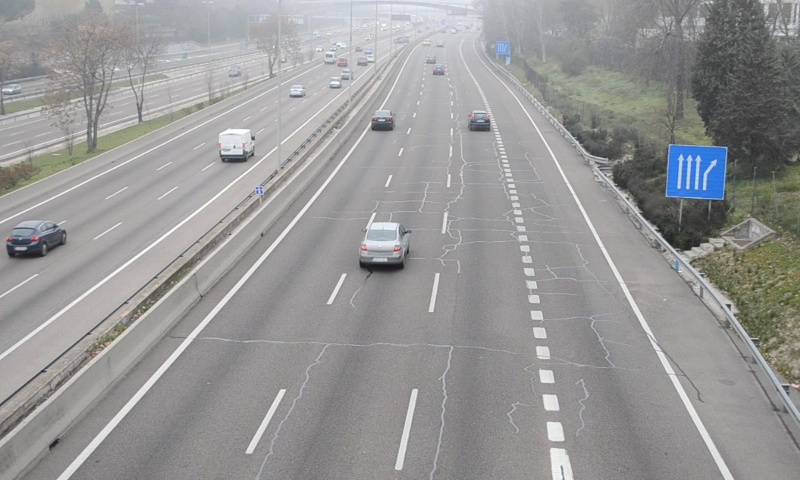car: (360, 223, 408, 268), (371, 108, 394, 131), (468, 110, 491, 132)
